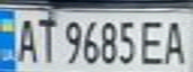5: (115, 17, 142, 65)
6: (78, 17, 103, 65)
8: (100, 17, 121, 66)
9: (60, 16, 84, 65)
A: (160, 16, 193, 66), (12, 13, 39, 64)
E: (136, 17, 172, 66)
T: (33, 13, 57, 64)
